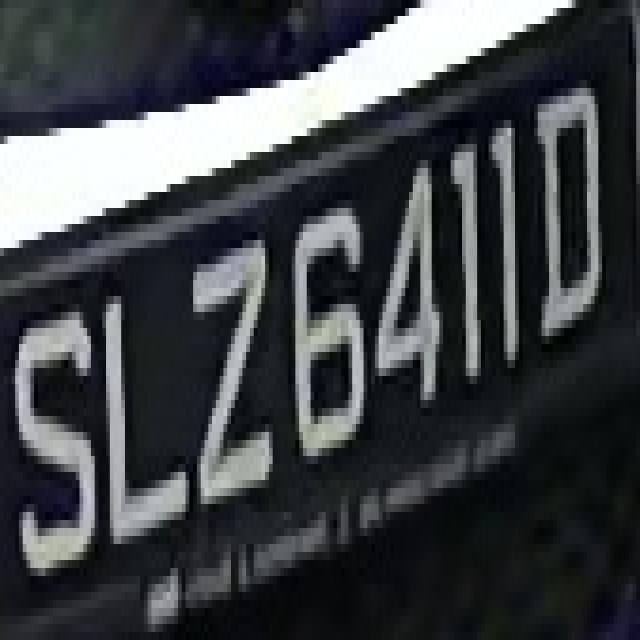1: (478, 96, 526, 400), (447, 112, 488, 392)
4: (364, 136, 443, 432)
6: (284, 176, 371, 488)
D: (534, 48, 610, 352)
L: (91, 240, 201, 552)
S: (15, 272, 95, 600)
Z: (186, 216, 284, 528)
